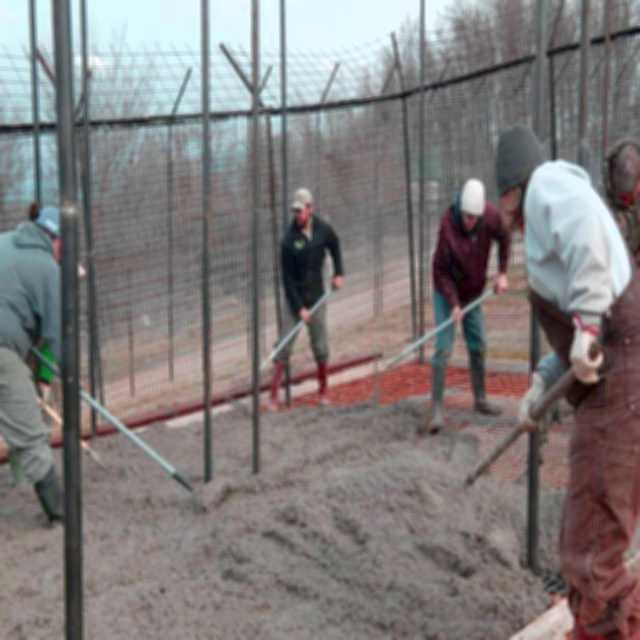Sin_Casco_Mascarrilla: (291, 187, 311, 225)
